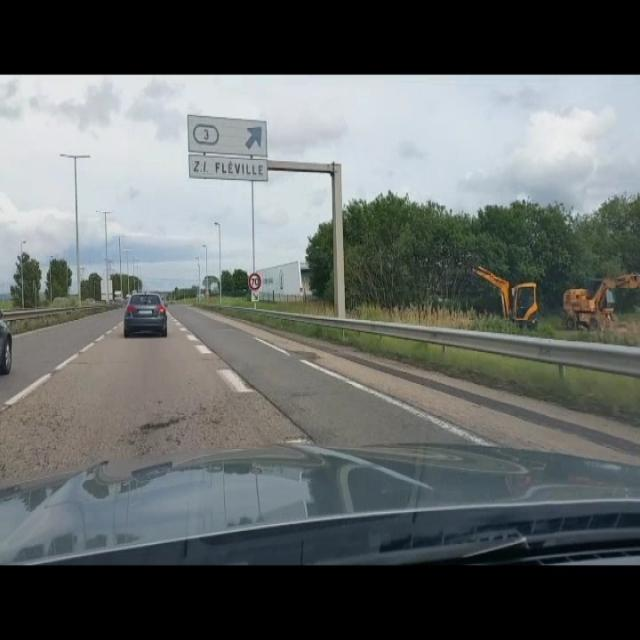direction: (188, 118, 267, 182)
side_right: (252, 291, 258, 301)
speed_70: (248, 272, 262, 291)
